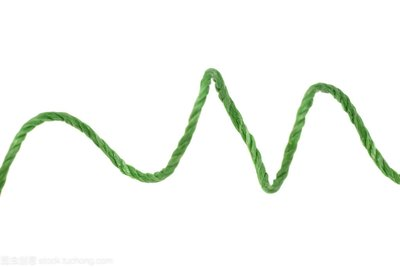9/可回收垃圾/绳子: (1, 67, 400, 196)
